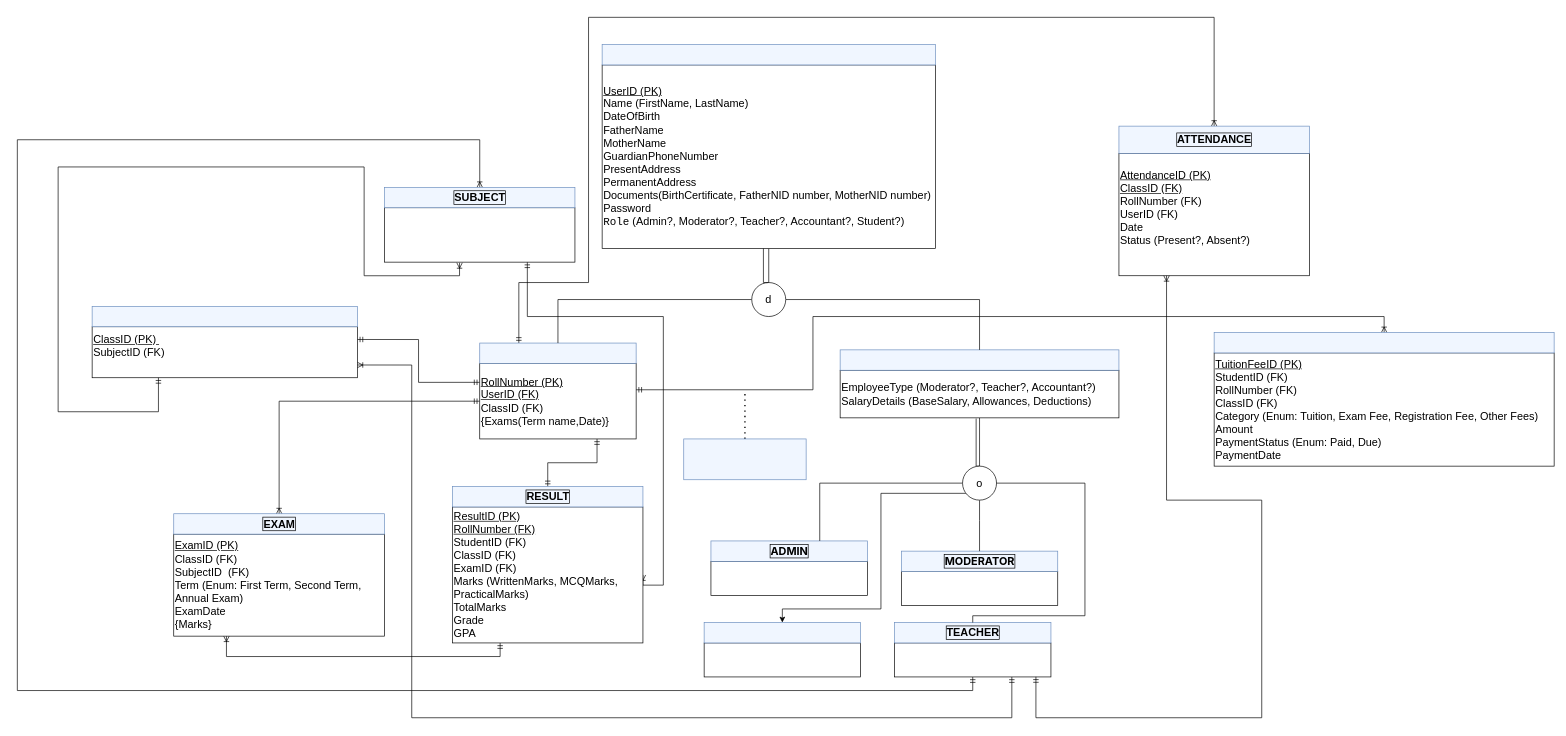
Image size: 1566x736. Some labels were removed from this diagram. Here are the shapes that lost their labels. From the top down, the centre of each, then its label:
the point at 768,54: USER
the point at 479,234: SubjectID (PK) ClassID (FK) SubjectName
the point at 224,316: CLASS
the point at 557,352: STUDENT
the point at 979,359: ENPLOYEE
the point at 1383,342: TUTION FEE
the point at 744,459: PaymentHistory
the point at 782,632: ACCOUNTANT
